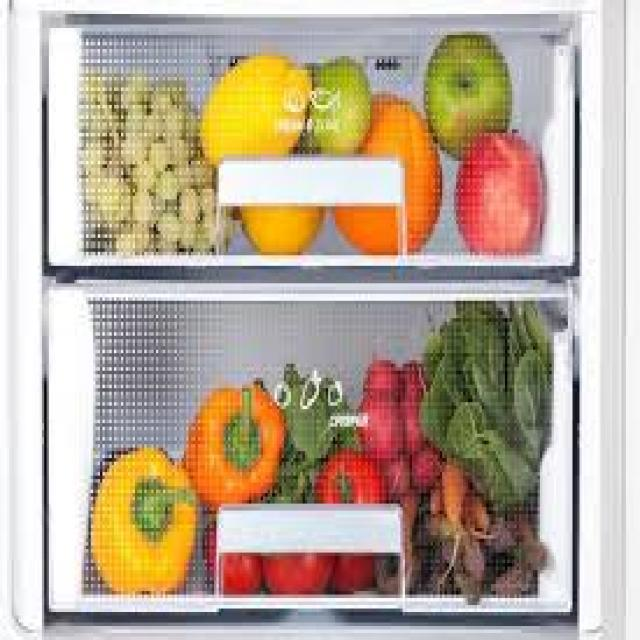apples: (422, 30, 559, 259)
lemons: (189, 47, 317, 174)
peppers: (84, 439, 204, 594), (173, 376, 284, 510)
tomatoes: (316, 452, 394, 545)
